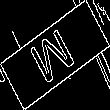M_SE: (28, 21, 82, 89)
